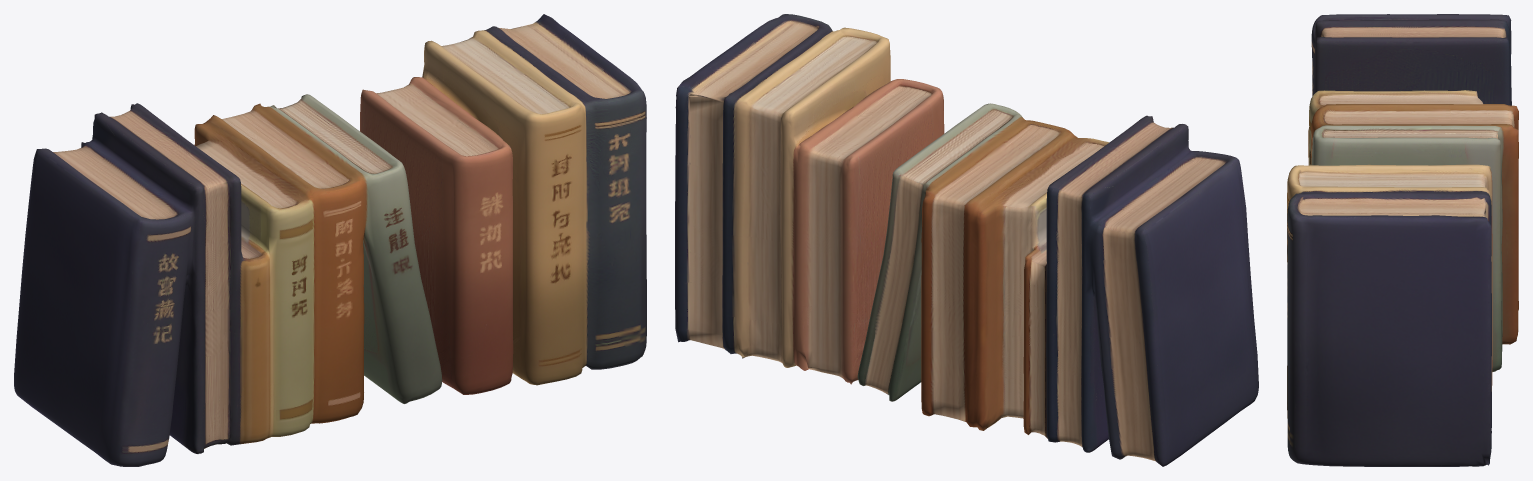
File: Row_of_Miniature_Book.glb
The picture shows the model from 3 angles, left to right: view 1: azimuth 30°, elevation 25°; view 2: azimuth 150°, elevation 25°; view 3: azimuth 270°, elevation 25°; orthographic projection. The views are drawn at different scales.
Size of the model in its own units: 1.91 by 0.9467 by 0.7914.
1 material, 1 textured.
